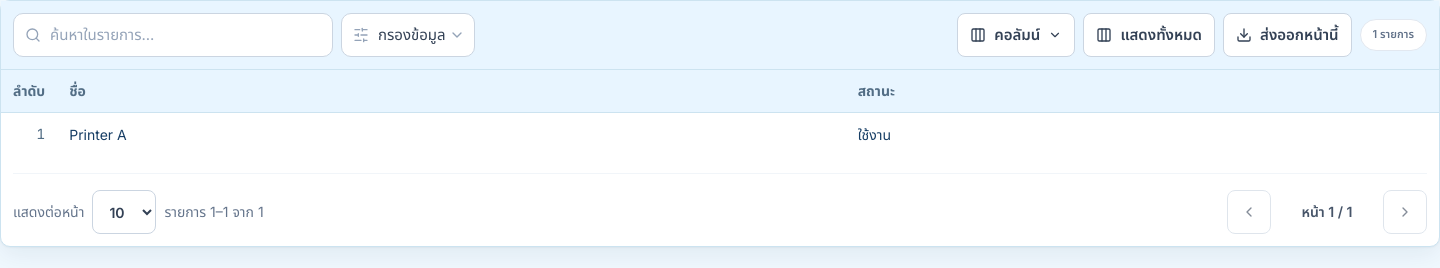
Test: DataTable › allows columns to be hidden while keeping at least one visible
The width and height of the screenshot is (1440, 268).
Click the button "คอลัมน์": (1016, 35) [957, 13, 1075, 57]
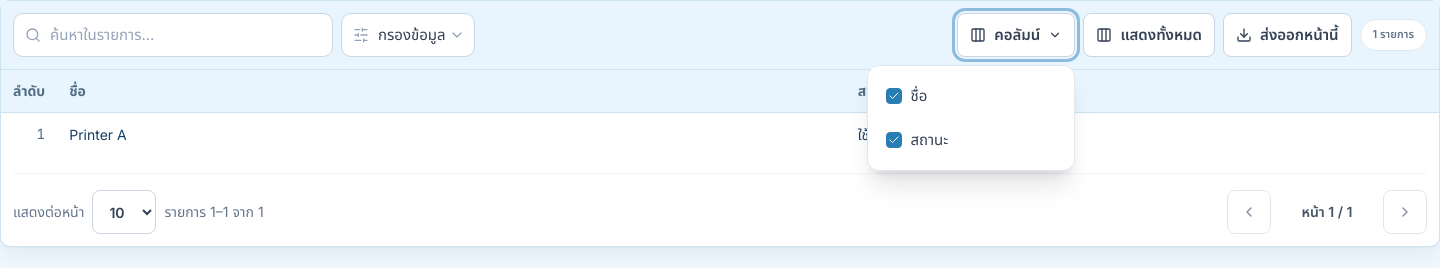
Click the button "สถานะ": (971, 140) [876, 118, 1066, 162]
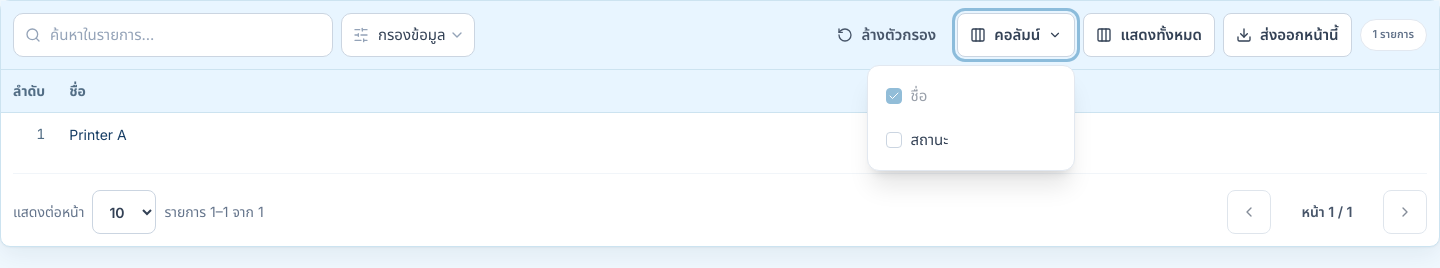
Expected: the text "Printer A" is shown, [69, 126, 127, 143]
Now the text "ใช้งาน" is gone
